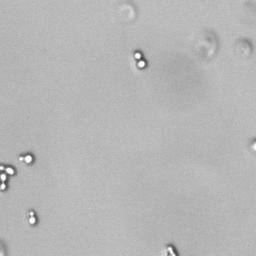budding: (132, 49, 147, 69), (17, 152, 34, 165), (27, 210, 37, 225)
